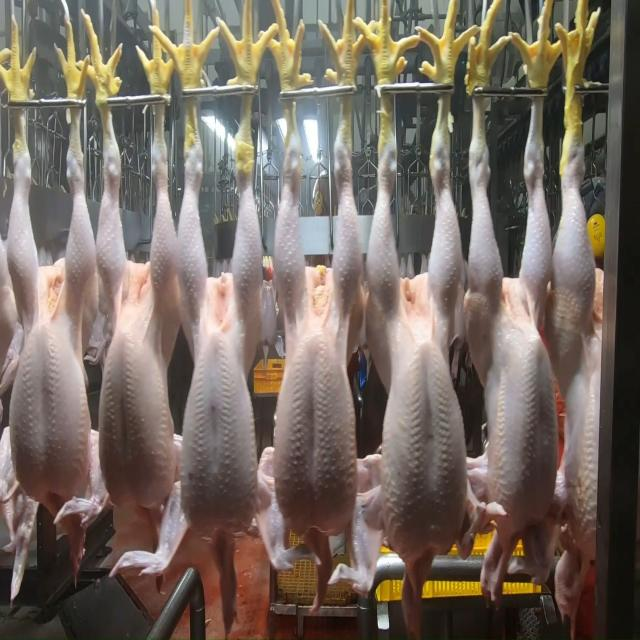chicken: (369, 104, 469, 564), (270, 120, 364, 542), (464, 115, 555, 537), (177, 145, 261, 547), (5, 145, 97, 500), (102, 149, 181, 515), (560, 95, 612, 549)
